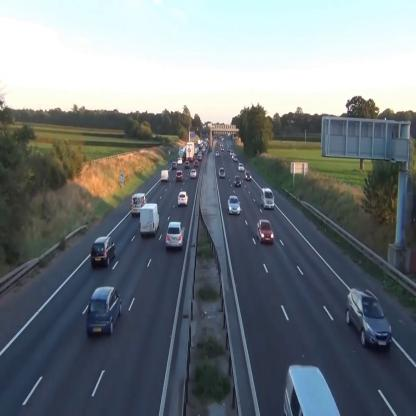car: (345, 287, 392, 351), (86, 286, 122, 337), (91, 235, 115, 266), (165, 220, 185, 250), (257, 219, 274, 244), (228, 196, 240, 214), (178, 190, 188, 206), (161, 169, 169, 182), (244, 170, 252, 181), (234, 175, 241, 187), (218, 168, 226, 178), (176, 170, 183, 181), (190, 169, 197, 178), (194, 160, 199, 168), (184, 162, 190, 168), (172, 161, 176, 169), (178, 157, 182, 164)
lorry: (140, 204, 159, 236), (131, 194, 147, 216), (261, 187, 275, 209), (186, 142, 194, 161)
